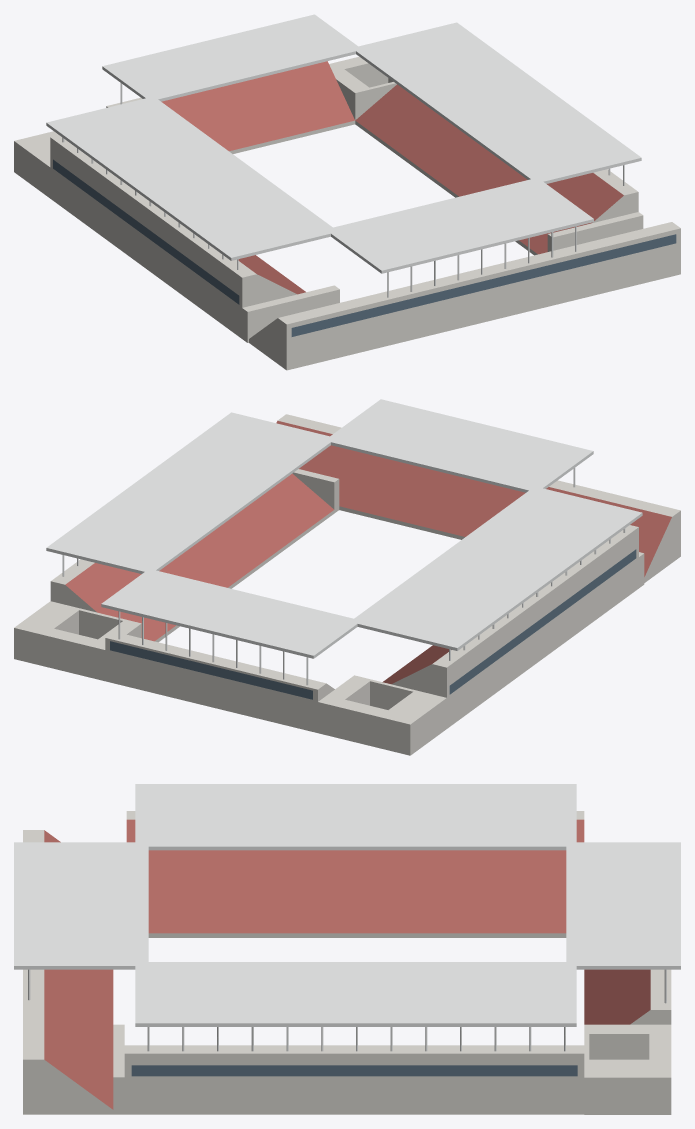
The model's file is stl-citypark.glb.
The picture shows the model from 3 angles, top to bottom: view 1: azimuth 30°, elevation 25°; view 2: azimuth 150°, elevation 25°; view 3: azimuth 270°, elevation 25°; orthographic projection. The views are drawn at different scales.
Visible parts, largest first — view 1: Energizer Park; view 2: Energizer Park; view 3: Energizer Park.
Boxes of the visible parts, x1,y1,x2,y2 form: Energizer Park: (14,14,680,370); Energizer Park: (14,399,680,755); Energizer Park: (14,784,680,1114).
Bounding box in the file's own units: 168 × 31.4 × 198.
